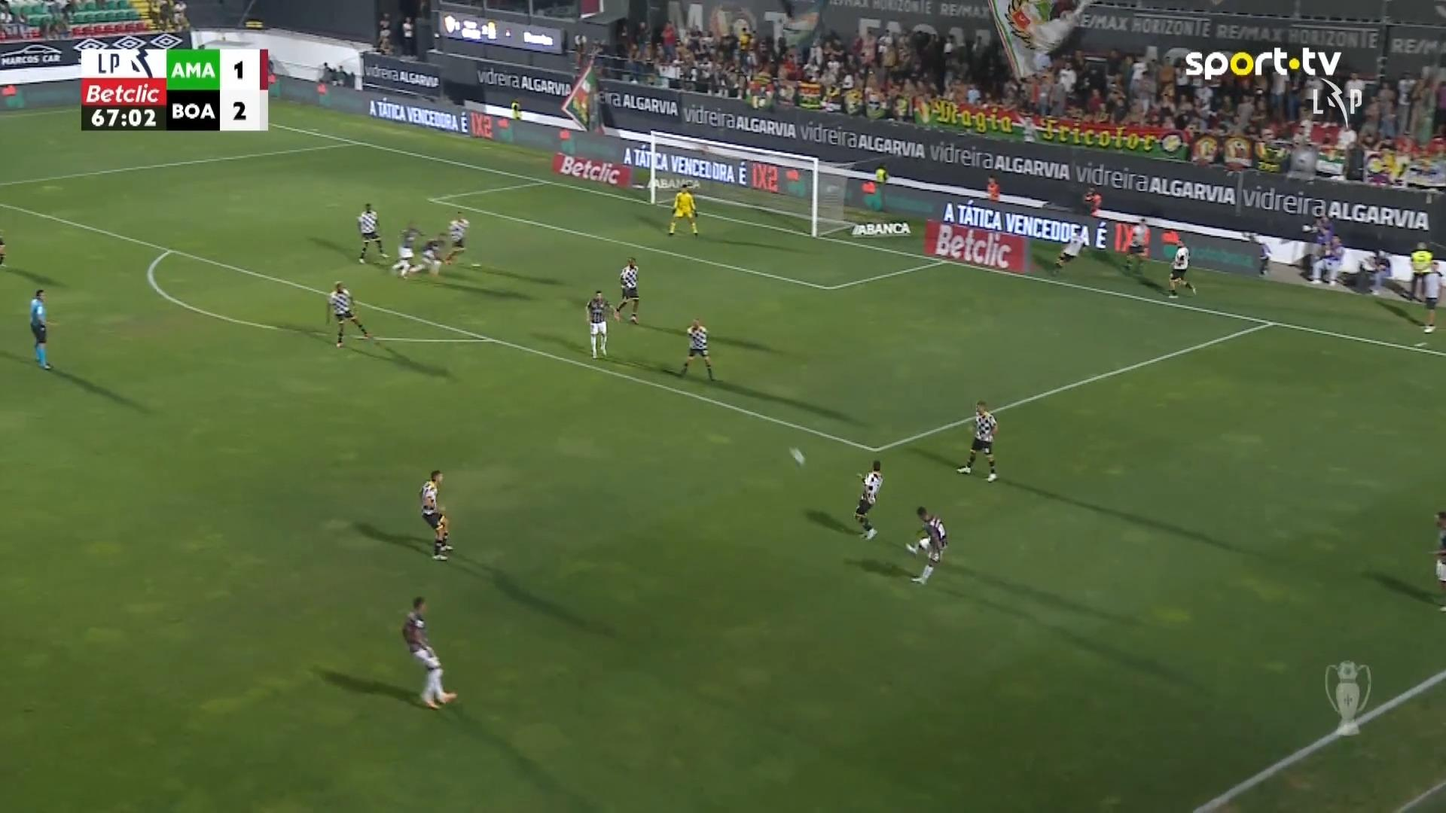ball: (789, 446, 804, 465)
goalkeeper: (667, 181, 699, 236)
player: (401, 595, 457, 709), (956, 399, 999, 482), (905, 505, 948, 584), (418, 469, 453, 561), (325, 281, 372, 348), (853, 459, 883, 540), (679, 318, 715, 380), (584, 290, 615, 358), (356, 202, 389, 263), (392, 220, 423, 279), (614, 256, 640, 324), (1430, 510, 1445, 611), (442, 212, 469, 266), (413, 234, 445, 276)
referee: (29, 288, 58, 370)
